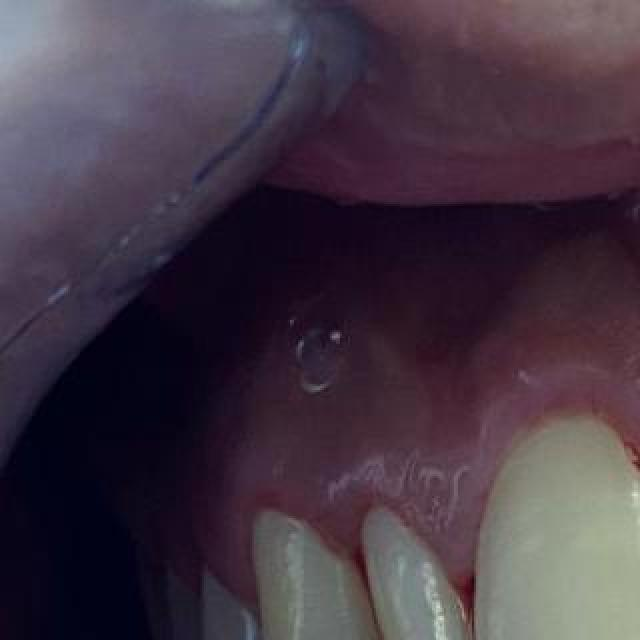maligned: (322, 488, 482, 640)
